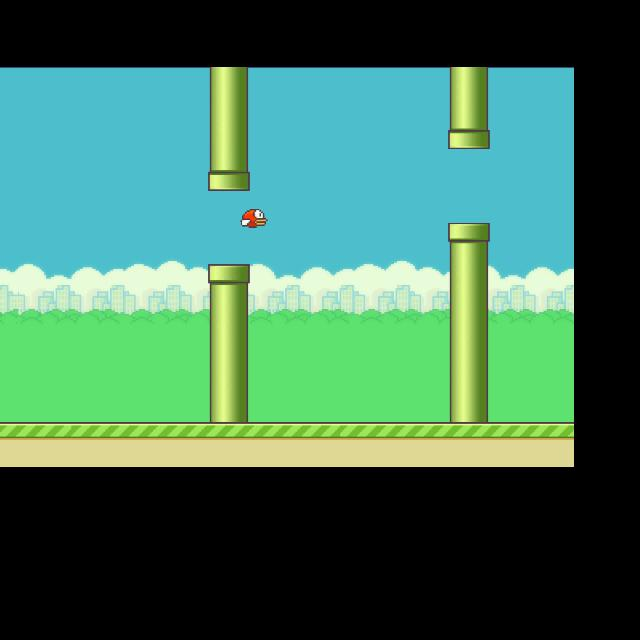bird: (241, 209, 266, 229)
pipedown: (449, 222, 489, 395), (207, 265, 247, 405)
pipeup: (208, 77, 249, 192), (448, 75, 490, 149)
